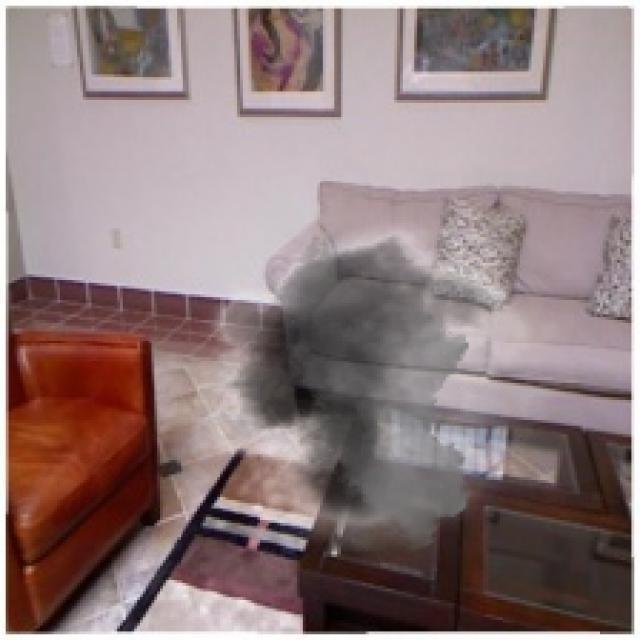Smoke: (168, 206, 578, 552)
